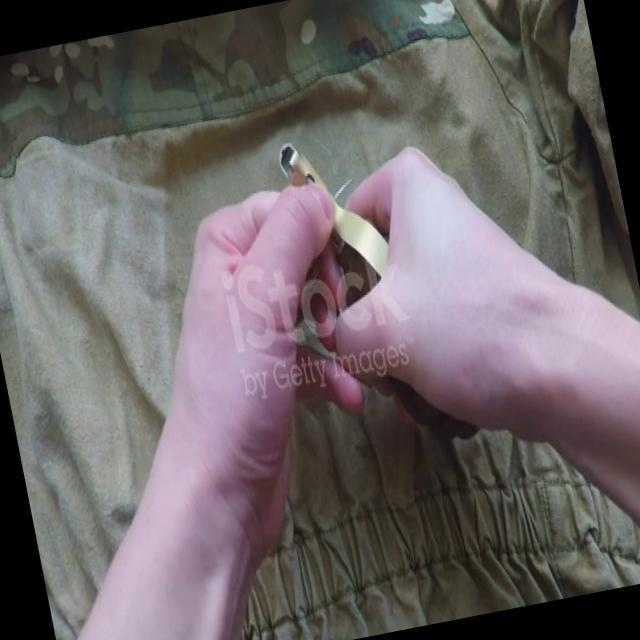grenade: (279, 115, 484, 462)
